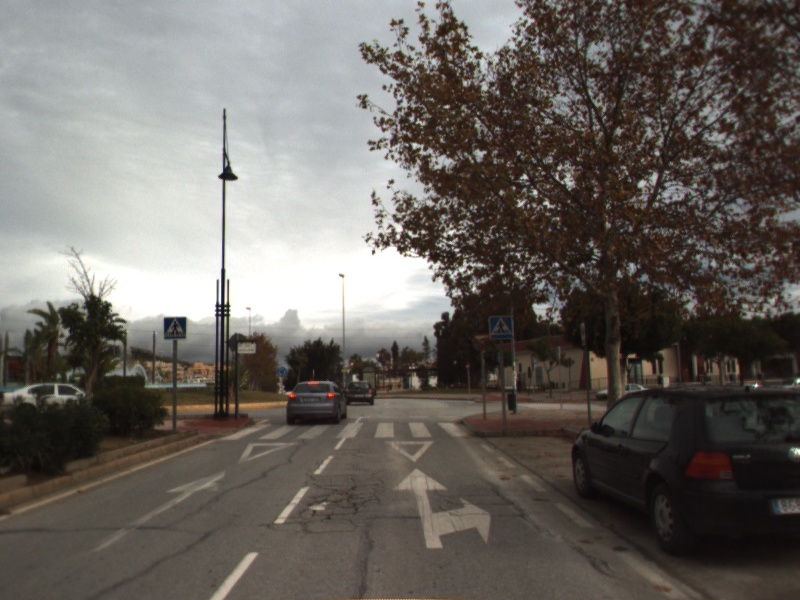STRAIGHT: (92, 467, 231, 552)
STRAIGHT_RIGHT: (391, 466, 493, 551)
